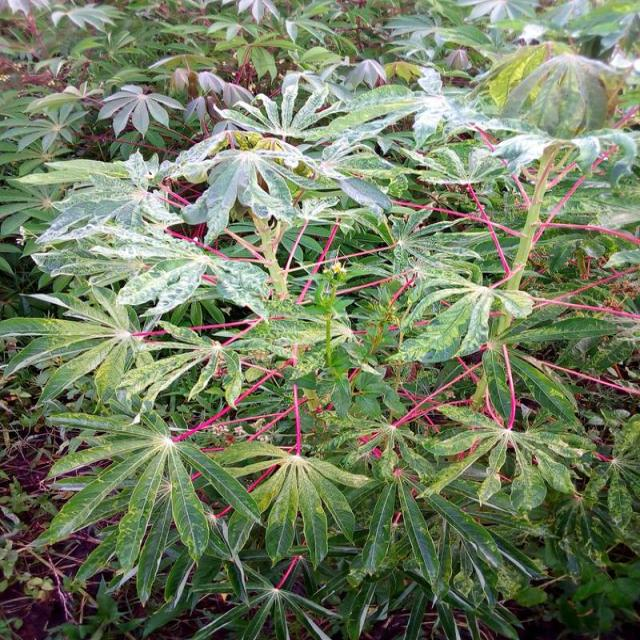cassava leaf: (2, 17, 640, 636)
